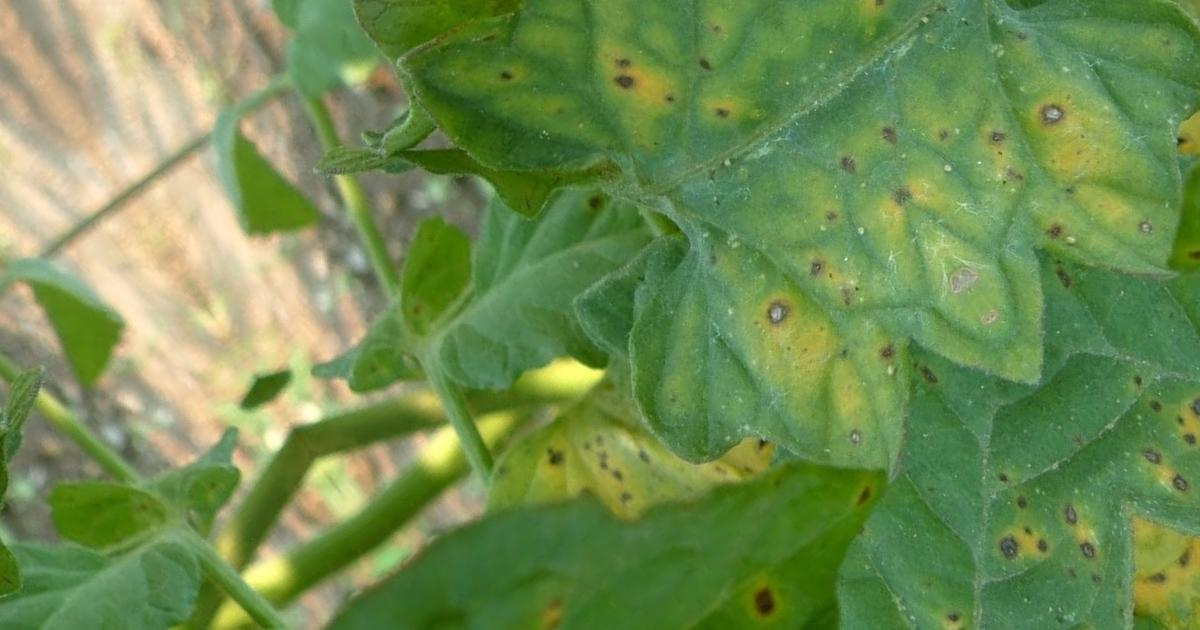Tomato Septoria leaf spot: (350, 0, 1038, 583)
